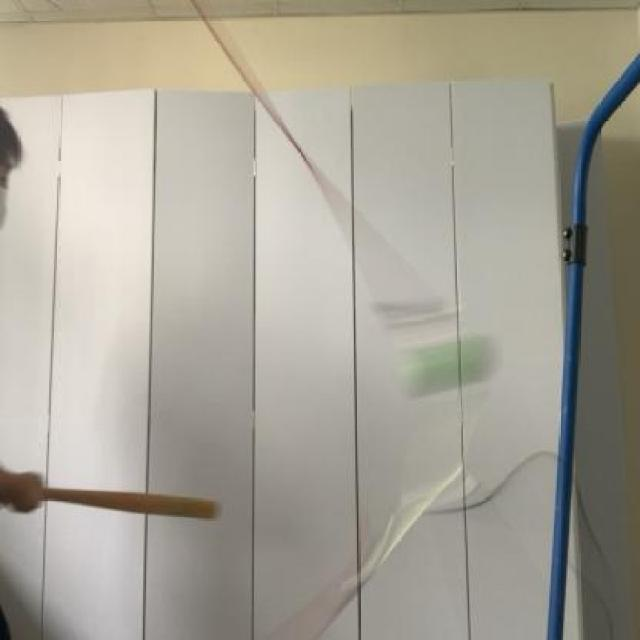baseball: (385, 328, 506, 397)
